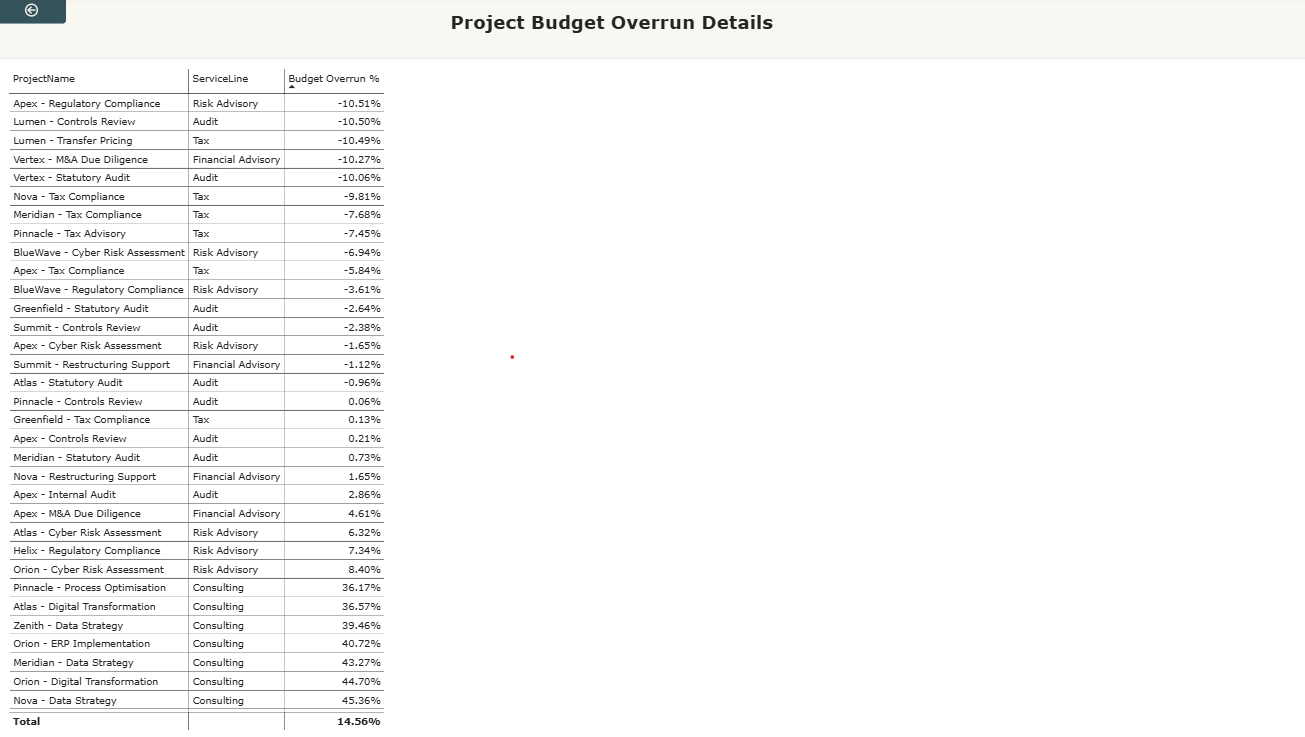

The page's visual inventory and layout, read from the dashboard file:
{"tool":"powerbi","page":{"name":"Page 2","canvas":[1920,1080],"ordinal":1},"visuals":[{"type":"tableEx","fields":{"Values":["Projects.ProjectName","Projects.ServiceLine","Projects.Budget Overrun %"]},"box":[0,90.6,1920.4,991],"z":0},{"type":"actionButton","box":[0,0,100,40],"z":1000},{"type":"textbox","box":[457.4,20.4,864.8,50],"z":2000}]}

Visuals, with their boxes in screenshot pixels (x1, y1, x2, y2), scaled from the page's 1920x1080 canvas onto the 1305x737 screenshot:
tableEx - Projects.ProjectName x Projects.ServiceLine: <box>0,62,1304,736</box>
actionButton: <box>0,0,68,27</box>
textbox: <box>311,14,899,48</box>
